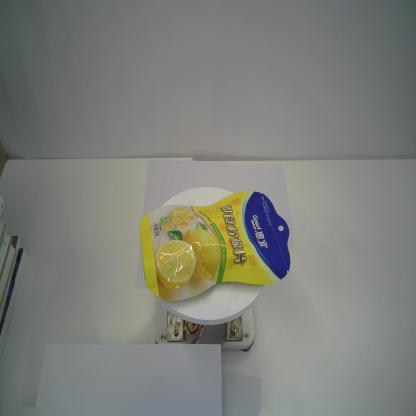Dried Fruit: (138, 189, 292, 304)
